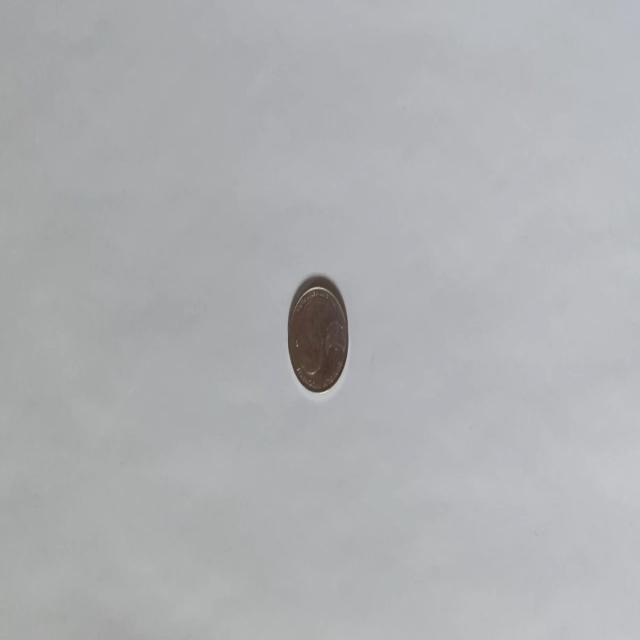seribu rupiah koin: (286, 274, 349, 394)
